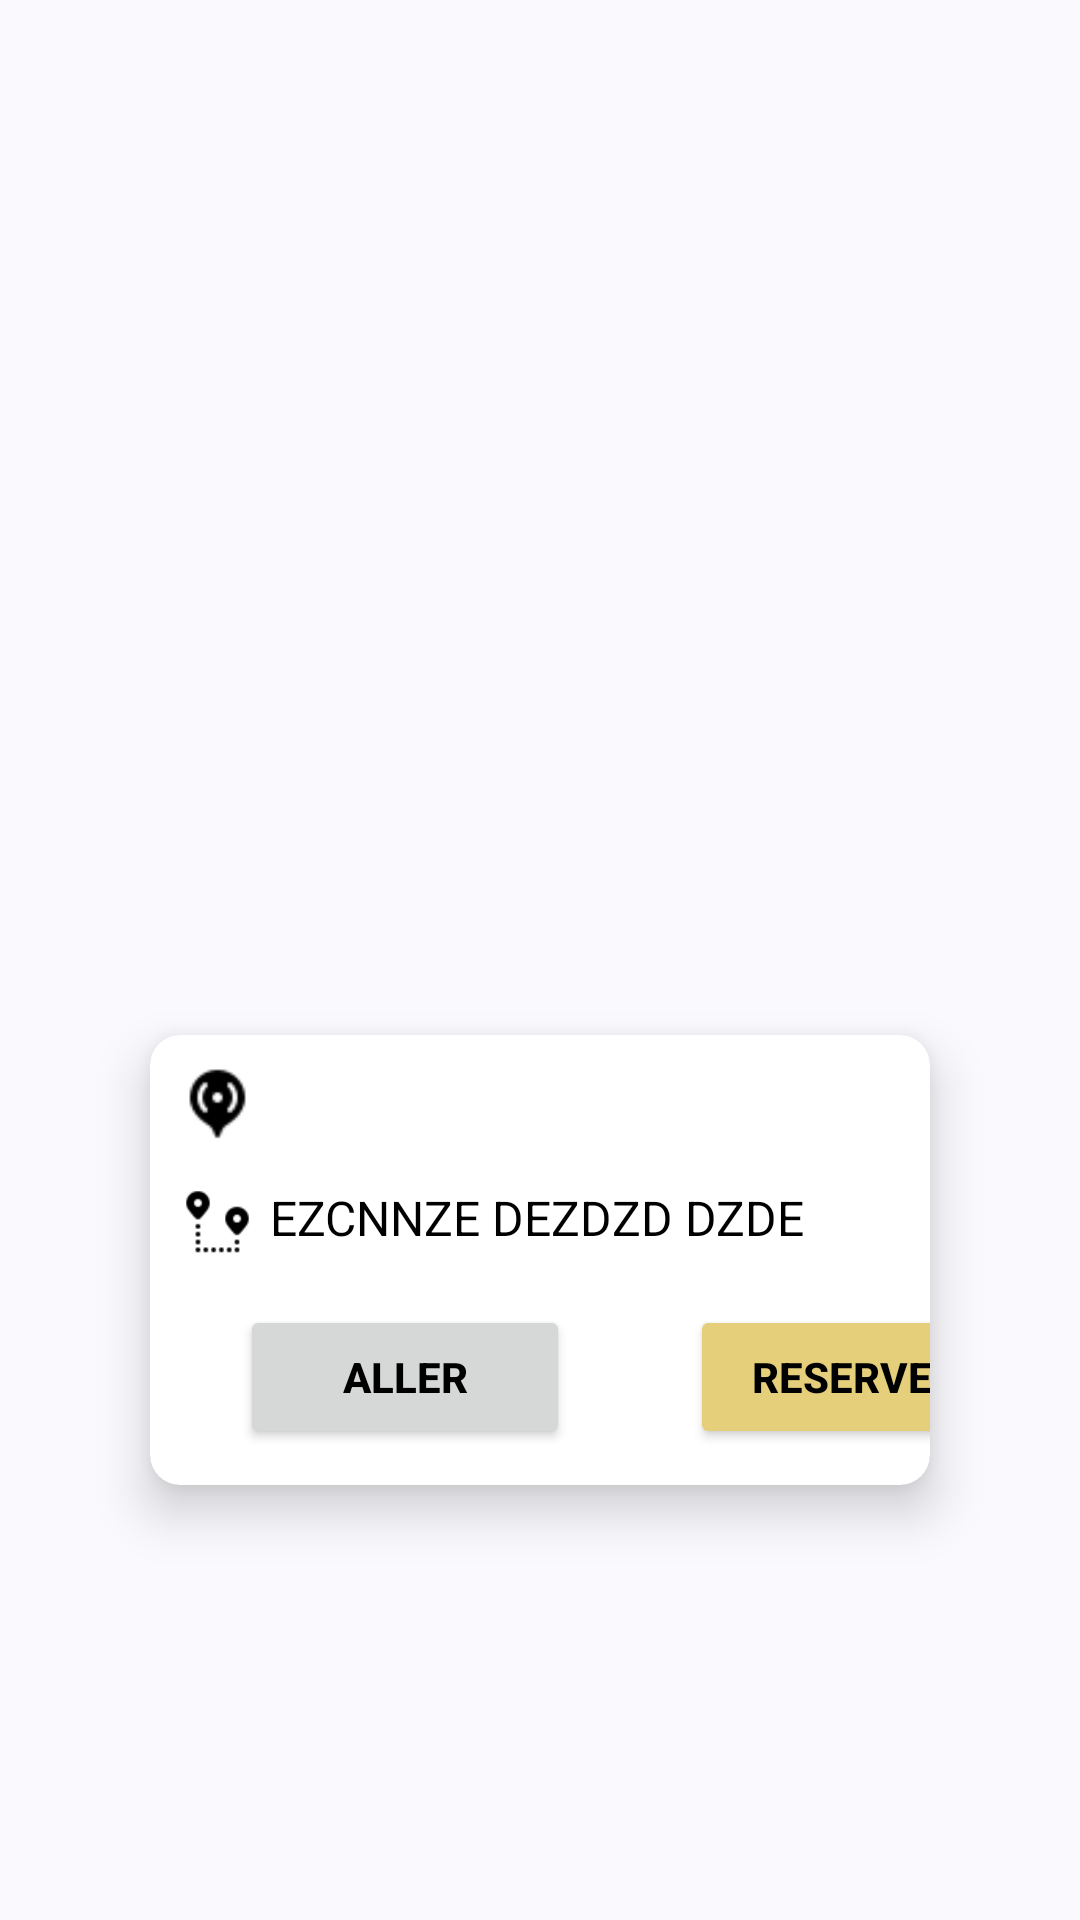

Where to tap for icons on this 1080px x 1920px app screen, as (x=x, y=y):
distance: (x=217, y=1222)
marker position: (x=217, y=1103)
